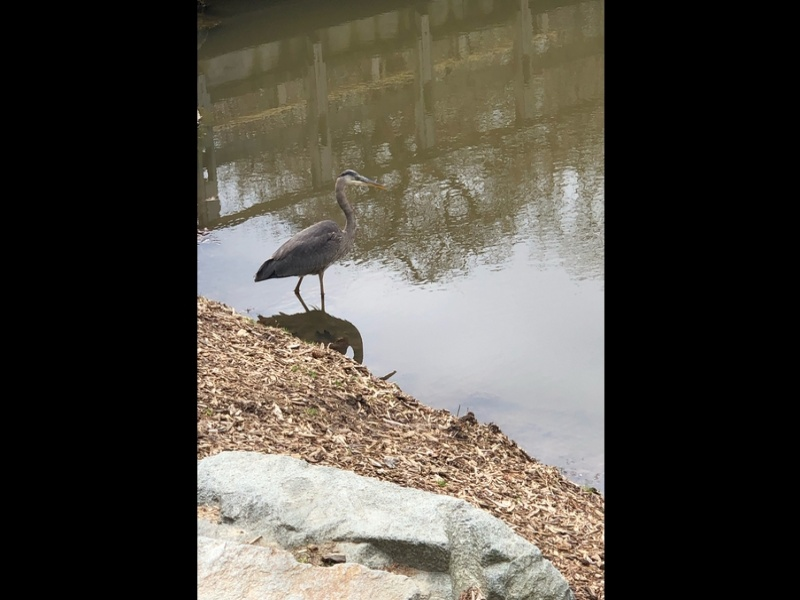heron: (250, 166, 378, 300)
